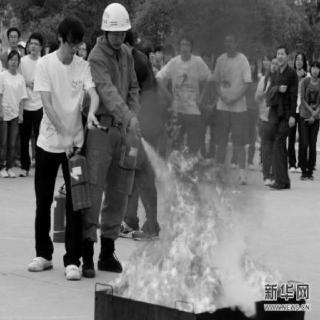Smoke: (190, 9, 252, 35), (142, 96, 166, 132)
